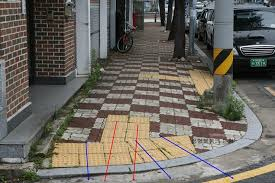guide_blocks: (53, 143, 131, 163), (132, 136, 195, 160), (102, 115, 149, 141), (192, 69, 218, 94), (138, 72, 192, 83)
